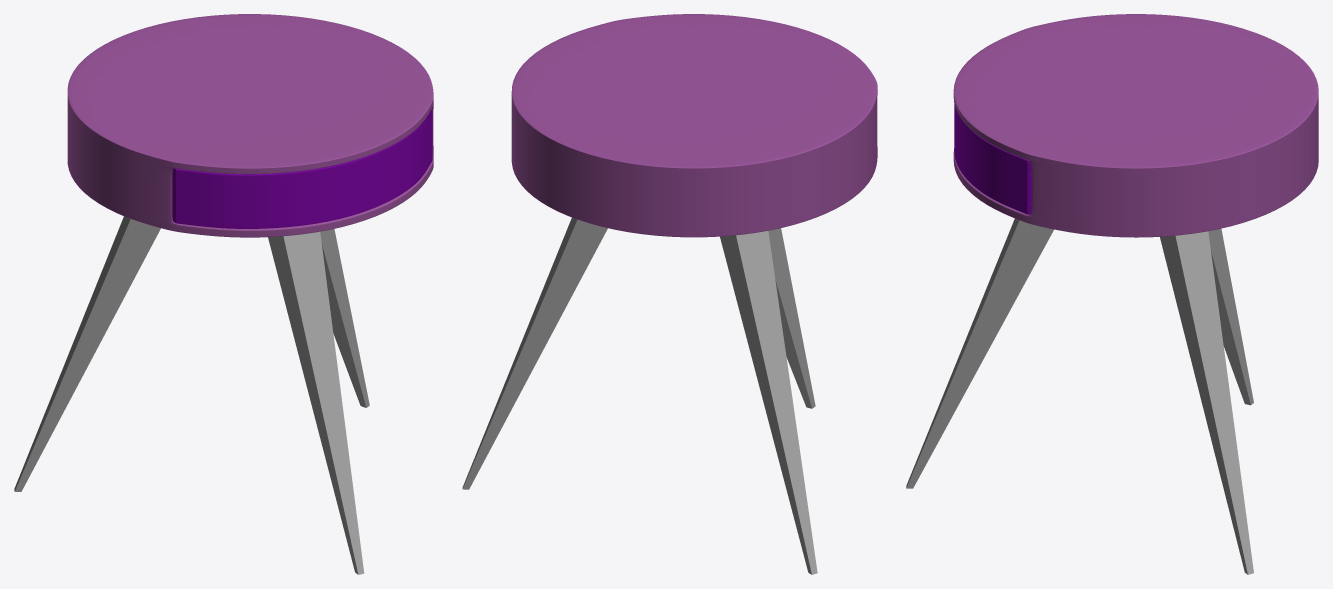
The model's file is nightstandsent from unity.fbx.
3 views of the same model, side by side, from view 1: azimuth 30°, elevation 25°; view 2: azimuth 150°, elevation 25°; view 3: azimuth 270°, elevation 25° (orthographic).
Parts seen in each view (by area): view 1: top1, drawer, table_newtable_grouptable_legsbig_good_table_leg_4, table_newtable_grouptable_legsbig_good_table_leg_2, table_newtable_grouptable_legsbig_good_table_leg_5; view 2: top1, table_newtable_grouptable_legsbig_good_table_leg_2, table_newtable_grouptable_legsbig_good_table_leg_5, table_newtable_grouptable_legsbig_good_table_leg_4; view 3: top1, table_newtable_grouptable_legsbig_good_table_leg_5, table_newtable_grouptable_legsbig_good_table_leg_4, drawer, table_newtable_grouptable_legsbig_good_table_leg_2.
Part boxes in pixels (x1=…): top1: x1=67, y1=14, x2=433, y2=237; drawer: x1=172, y1=107, x2=432, y2=228; table_newtable_grouptable_legsbig_good_table_leg_4: x1=268, y1=231, x2=364, y2=574; table_newtable_grouptable_legsbig_good_table_leg_2: x1=14, y1=216, x2=160, y2=491; table_newtable_grouptable_legsbig_good_table_leg_5: x1=320, y1=229, x2=369, y2=407; top1: x1=511, y1=14, x2=877, y2=237; table_newtable_grouptable_legsbig_good_table_leg_2: x1=720, y1=231, x2=817, y2=574; table_newtable_grouptable_legsbig_good_table_leg_5: x1=462, y1=217, x2=607, y2=489; table_newtable_grouptable_legsbig_good_table_leg_4: x1=768, y1=228, x2=815, y2=408; top1: x1=953, y1=14, x2=1318, y2=237; table_newtable_grouptable_legsbig_good_table_leg_5: x1=1160, y1=231, x2=1253, y2=574; table_newtable_grouptable_legsbig_good_table_leg_4: x1=906, y1=218, x2=1053, y2=488; drawer: x1=954, y1=104, x2=1031, y2=214; table_newtable_grouptable_legsbig_good_table_leg_2: x1=1208, y1=228, x2=1253, y2=405.
Bounding box in the file's own units: 0.6741 × 0.7236 × 0.6782.
